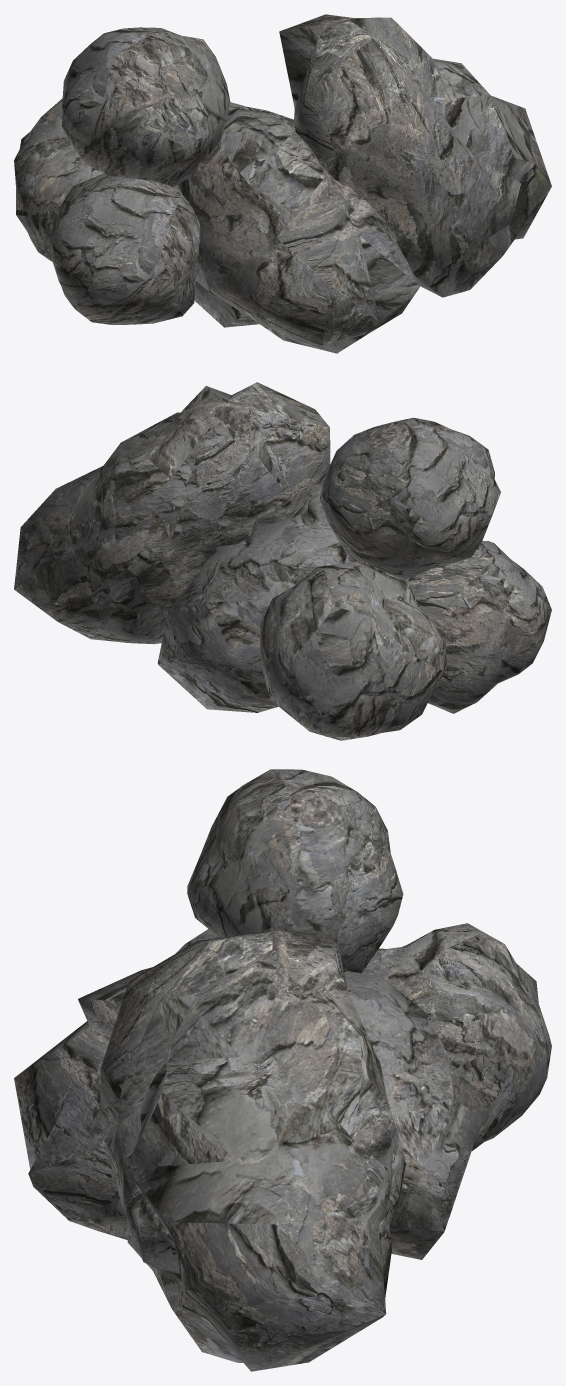
The model's file is kivi8.fbx.
3 renders of one model, top to bottom at view 1: azimuth 30°, elevation 25°; view 2: azimuth 150°, elevation 25°; view 3: azimuth 270°, elevation 25°, orthographic. The views are drawn at different scales.
Parts seen in each view (by area): view 1: Icosphere_000, Icosphere_001, Icosphere_002, Icosphere, Icosphere_003; view 2: Icosphere_000, Icosphere_003, Icosphere_002, Icosphere_001, Icosphere; view 3: Icosphere_000, Icosphere_001, Icosphere_002, Icosphere_003.
Boxes of the visible parts, left/top/right/bottom form: Icosphere_000: left=279, top=14, right=551, bottom=297; Icosphere_001: left=178, top=102, right=419, bottom=353; Icosphere_002: left=62, top=27, right=230, bottom=187; Icosphere: left=51, top=173, right=200, bottom=324; Icosphere_003: left=14, top=98, right=103, bottom=261; Icosphere_000: left=14, top=382, right=330, bottom=644; Icosphere_003: left=260, top=560, right=446, bottom=740; Icosphere_002: left=319, top=417, right=500, bottom=579; Icosphere_001: left=157, top=479, right=352, bottom=712; Icosphere: left=405, top=541, right=551, bottom=713; Icosphere_000: left=100, top=930, right=405, bottom=1371; Icosphere_001: left=14, top=967, right=482, bottom=1259; Icosphere_002: left=187, top=769, right=403, bottom=973; Icosphere_003: left=361, top=923, right=551, bottom=1150.
Bounding box in the file's own units: 12.37 × 7.2 × 9.09.
